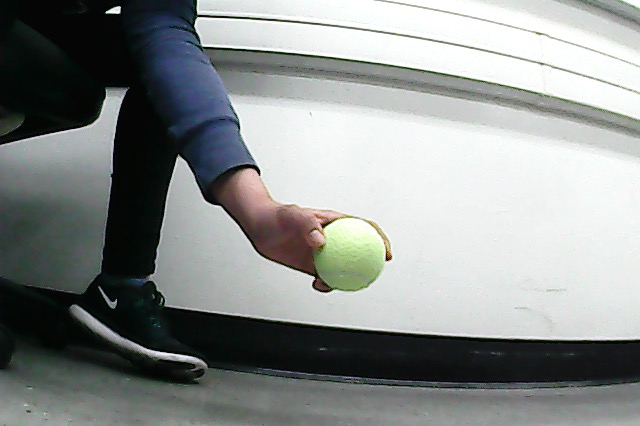ball: (310, 215, 387, 294)
